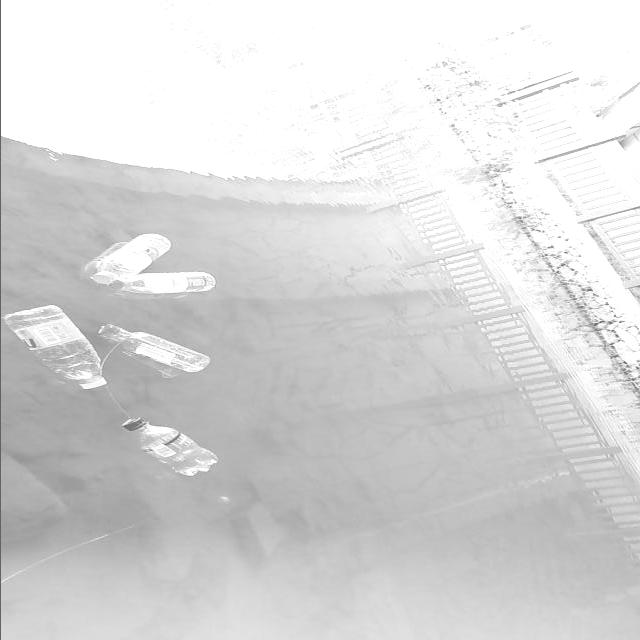bottle: (118, 400, 242, 488), (98, 308, 230, 386), (0, 301, 107, 393), (83, 231, 171, 286), (110, 267, 225, 300)
